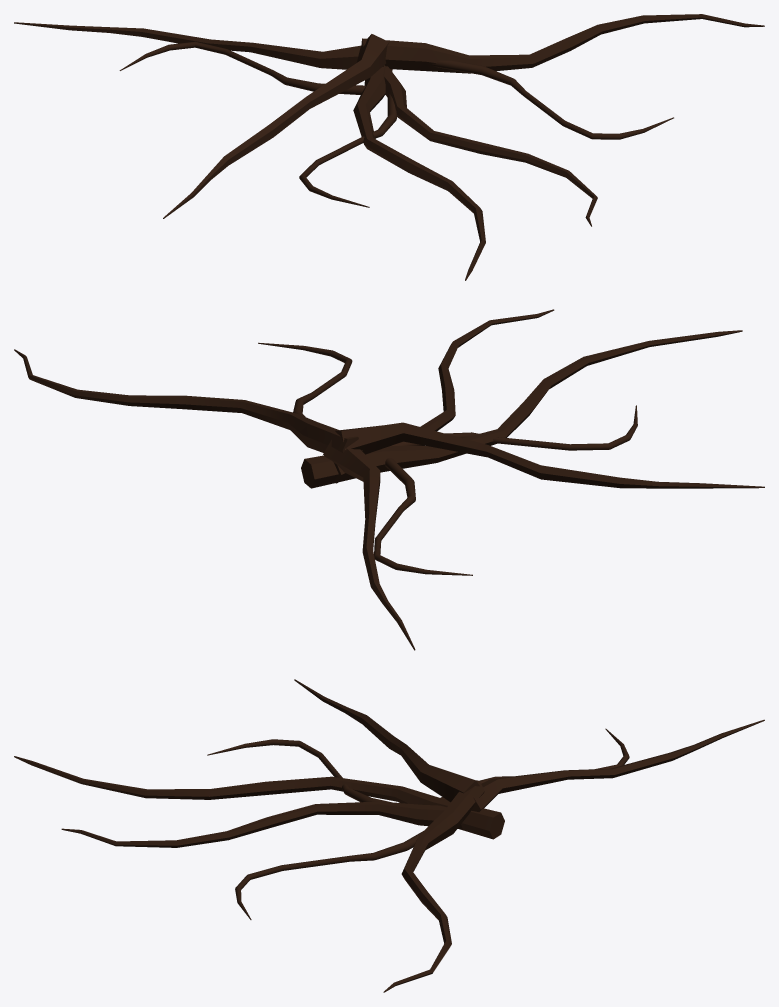
The model's file is SM_roots_jungle_01.fbx.
3 views of the same model, one above another, from view 1: azimuth 30°, elevation 25°; view 2: azimuth 150°, elevation 25°; view 3: azimuth 270°, elevation 25° (orthographic). The views are drawn at different scales.
Visible parts, largest first — view 1: Line003; view 2: Line003; view 3: Line003.
Boxes of the visible parts, x1=… form: Line003: x1=14, y1=14, x2=764, y2=280; Line003: x1=14, y1=309, x2=764, y2=650; Line003: x1=14, y1=679, x2=764, y2=992.
Bounding box in the file's own units: 349 × 25.62 × 352.
